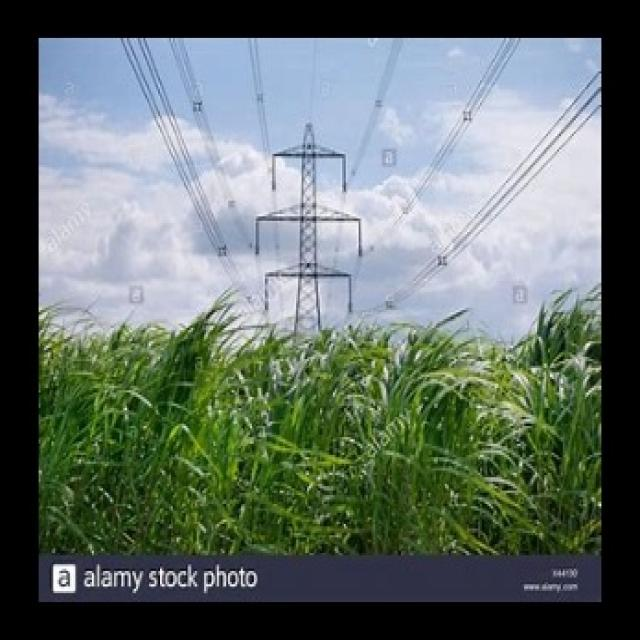utility poles: (260, 113, 358, 551)
